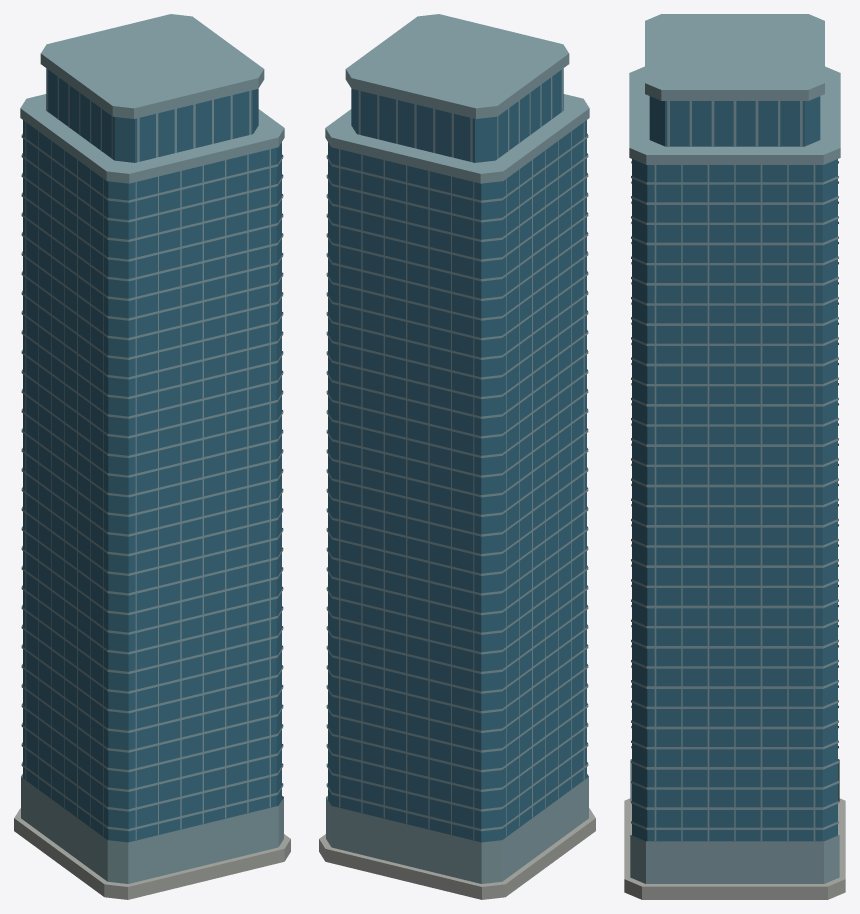
The model's file is building_tower_glass.glb.
The picture shows the model from 3 angles, left to right: view 1: azimuth 30°, elevation 25°; view 2: azimuth 150°, elevation 25°; view 3: azimuth 270°, elevation 25°; orthographic projection. The views are drawn at different scales.
Visible parts, largest first — view 1: building_tower_glass; view 2: building_tower_glass; view 3: building_tower_glass.
Boxes of the visible parts, x1,y1,x2,y2 form: building_tower_glass: (14, 14, 290, 899); building_tower_glass: (319, 14, 595, 899); building_tower_glass: (624, 14, 845, 899).
Size of the model in its own units: 30 by 120 by 30.
